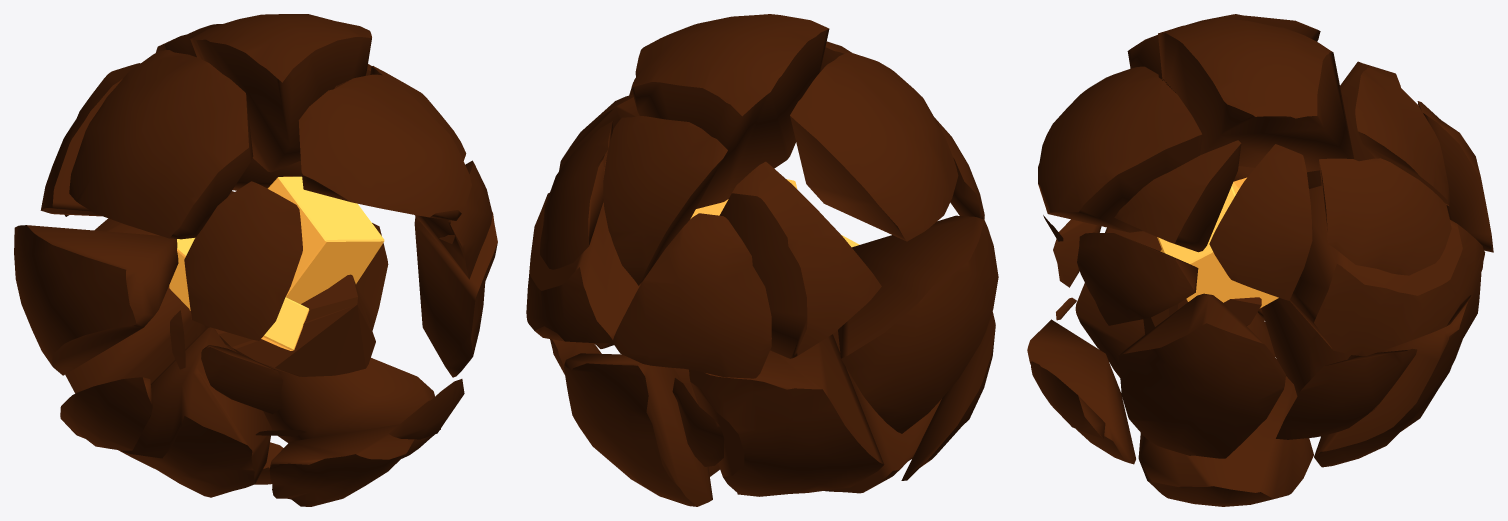
Rendered from Flying_Enemy.fbx.
The picture shows the model from 3 angles, left to right: view 1: azimuth 30°, elevation 25°; view 2: azimuth 150°, elevation 25°; view 3: azimuth 270°, elevation 25°; orthographic projection. The views are drawn at different scales.
Parts seen in each view (by area): view 1: StoneShell, Gold; view 2: StoneShell; view 3: StoneShell, Gold.
Boxes of the visible parts, x1,y1,x2,y2 form: StoneShell: (14, 14, 497, 506); Gold: (169, 176, 384, 376); StoneShell: (526, 14, 998, 506); StoneShell: (1027, 14, 1493, 506); Gold: (1143, 177, 1278, 334).
Bounding box in the file's own units: 73.92 × 75.03 × 71.89.
